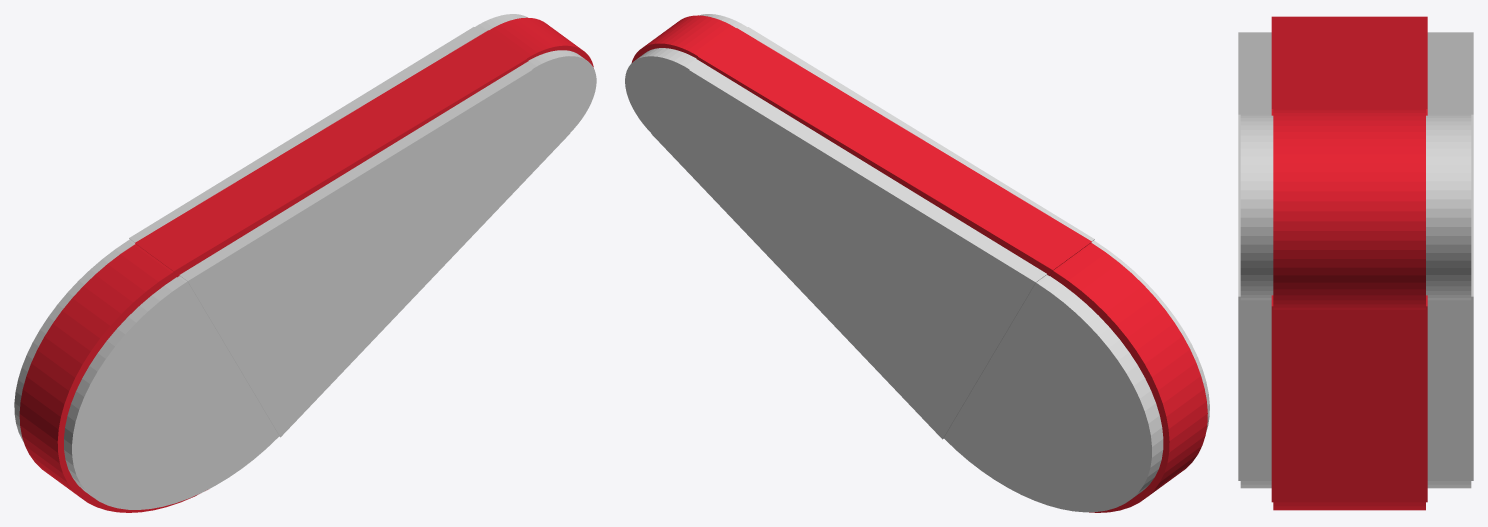
Rendered from tinker.obj.
The picture shows the model from 3 angles, left to right: view 1: azimuth 30°, elevation 25°; view 2: azimuth 150°, elevation 25°; view 3: azimuth 270°, elevation 25°; orthographic projection. The views are drawn at different scales.
Visible parts, largest first — view 1: group_0_16448250, group_0_15277357; view 2: group_0_16448250, group_0_15277357; view 3: group_0_15277357, group_0_16448250.
Part boxes in pixels (bbox=[...]): group_0_16448250: bbox=[14, 14, 596, 509]; group_0_15277357: bbox=[19, 17, 593, 512]; group_0_16448250: bbox=[625, 14, 1209, 512]; group_0_15277357: bbox=[631, 15, 1207, 512]; group_0_15277357: bbox=[1271, 16, 1427, 510]; group_0_16448250: bbox=[1238, 32, 1473, 488].
Bounding box in the file's own units: 25.36 × 16.52 × 4.82.
